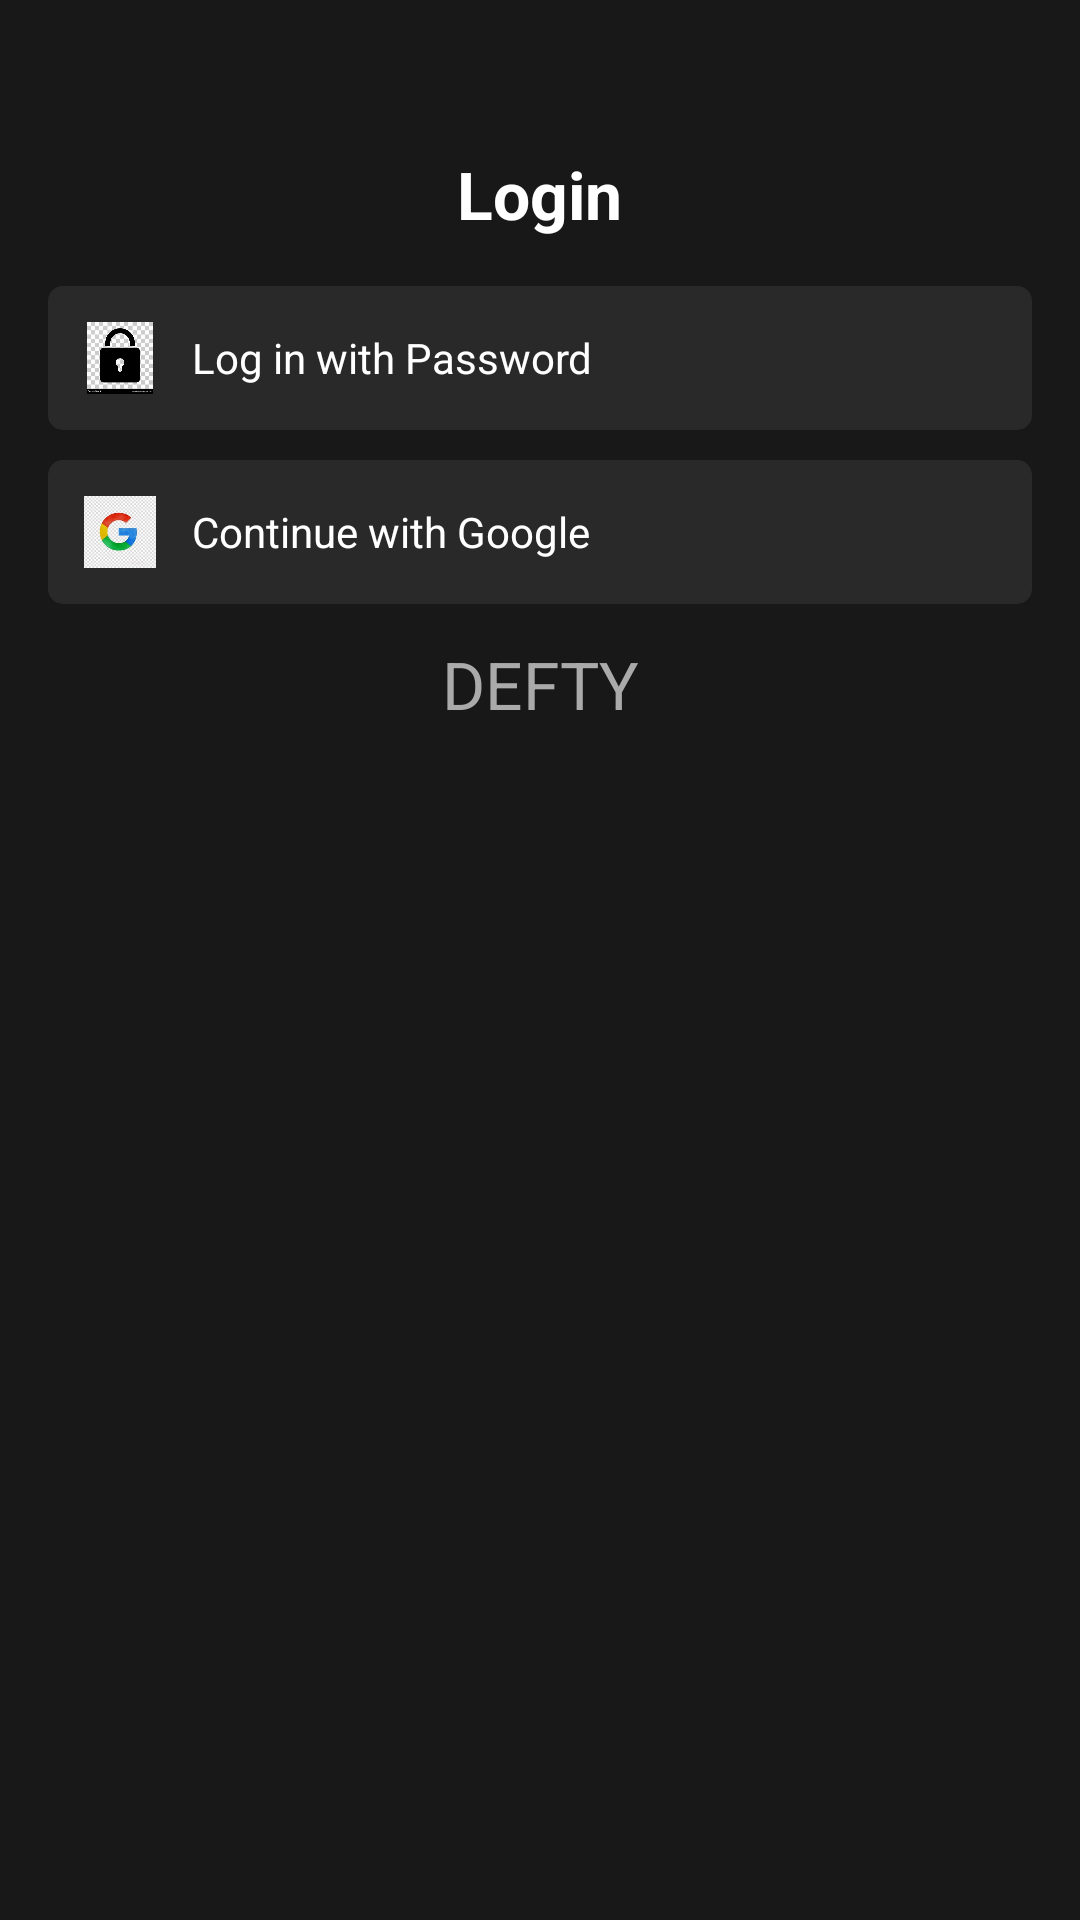

Icon bounding boxes for this 1080×1920 phone screenshot, format (x1, y1, x2, y2):
lock: (87, 322, 153, 394)
